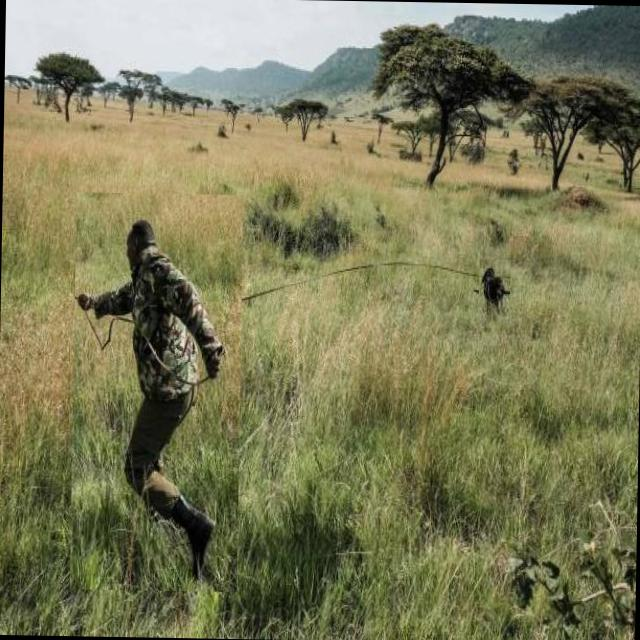animal: (411, 228, 524, 358)
poacher: (56, 172, 274, 536)
